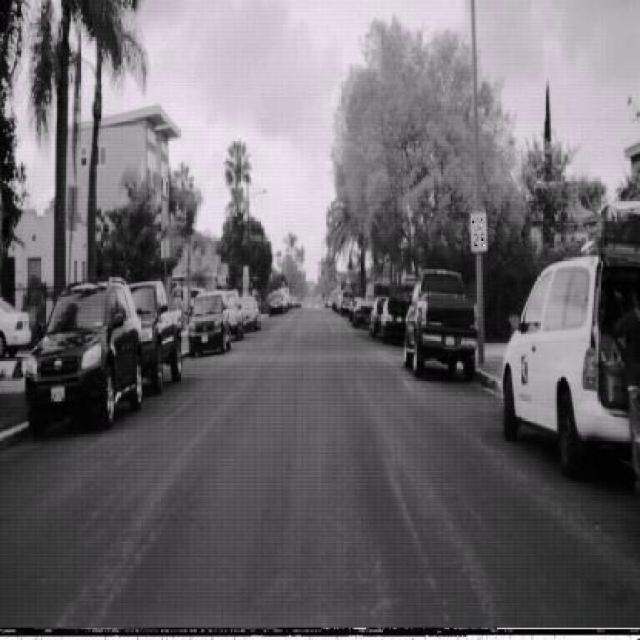speedLimit25: (469, 210, 488, 252)
